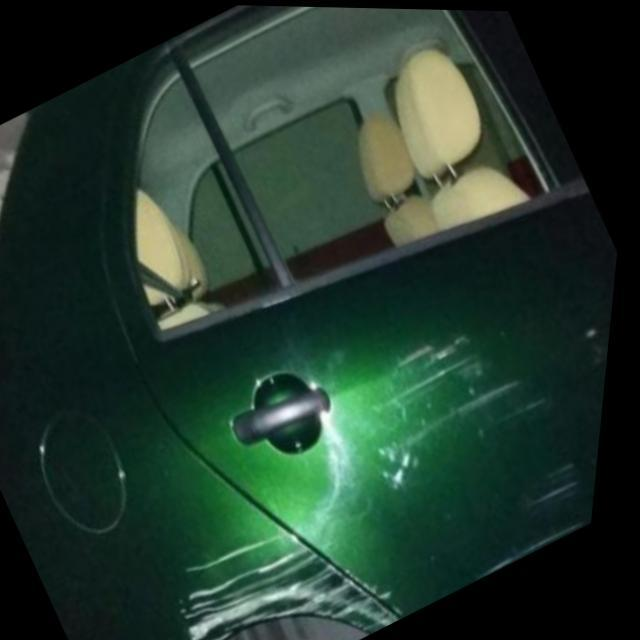rub: (382, 329, 604, 581), (197, 537, 419, 640)
